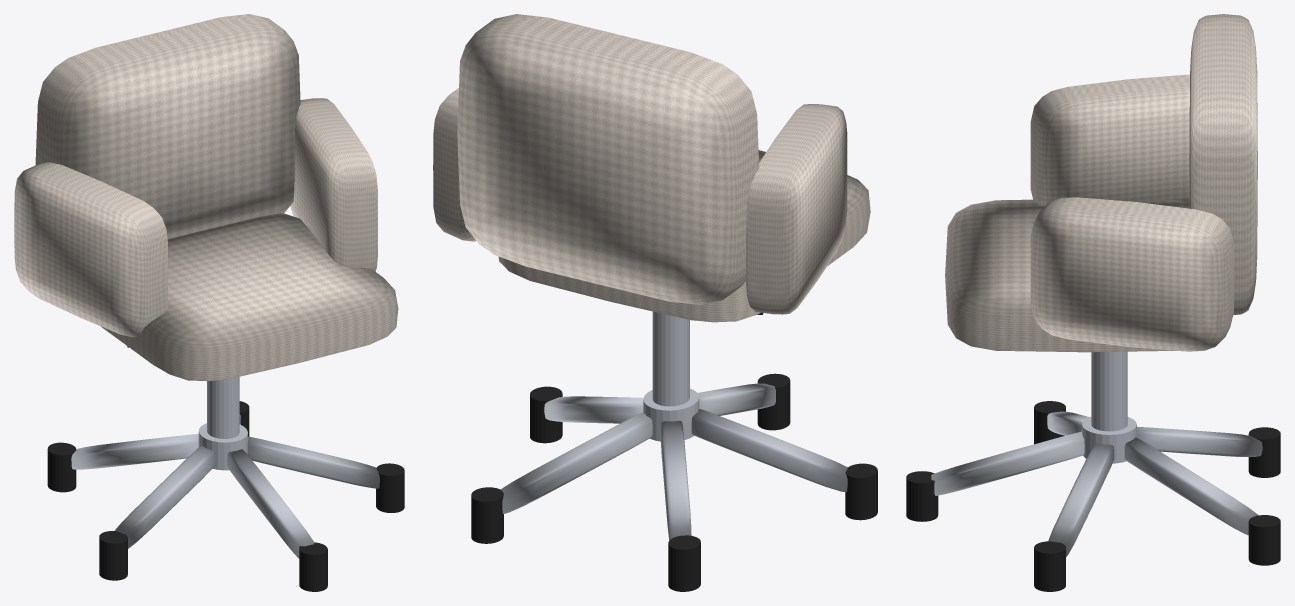
3 views of the same model, side by side, from view 1: azimuth 30°, elevation 25°; view 2: azimuth 150°, elevation 25°; view 3: azimuth 270°, elevation 25° (orthographic). The views are drawn at different scales.
Parts seen in each view (by area): view 1: 2 backrest, 1 seat, 3 left_armrest, 4 right_armrest, 9 base_spoke_2, 12 base_spoke_5, 11 base_spoke_4, 8 base_spoke_1, 6 gas_lift, 17 wheel_5, 13 wheel_1, 16 wheel_4 (+2 smaller); view 2: 2 backrest, 3 left_armrest, 1 seat, 12 base_spoke_5, 10 base_spoke_3, 4 right_armrest, 6 gas_lift, 11 base_spoke_4, 9 base_spoke_2, 8 base_spoke_1, 16 wheel_4, 15 wheel_3 (+4 smaller); view 3: 4 right_armrest, 3 left_armrest, 2 backrest, 1 seat, 8 base_spoke_1, 10 base_spoke_3, 9 base_spoke_2, 6 gas_lift, 11 base_spoke_4, 15 wheel_3, 14 wheel_2, 13 wheel_1 (+4 smaller).
Boxes of the visible parts, box(x1,y1,x2,y2) form: 2 backrest: box(35, 14, 300, 238); 1 seat: box(100, 213, 398, 381); 3 left_armrest: box(14, 162, 168, 337); 4 right_armrest: box(290, 98, 377, 271); 9 base_spoke_2: box(247, 436, 379, 488); 12 base_spoke_5: box(115, 445, 214, 548); 11 base_spoke_4: box(71, 434, 198, 469); 8 base_spoke_1: box(227, 449, 314, 558); 6 gas_lift: box(207, 377, 239, 438); 17 wheel_5: box(99, 531, 127, 580); 13 wheel_1: box(299, 542, 327, 591); 16 wheel_4: box(47, 442, 76, 492); 2 backrest: box(457, 14, 759, 304); 3 left_armrest: box(746, 104, 847, 314); 1 seat: box(498, 150, 870, 322); 12 base_spoke_5: box(691, 409, 847, 492); 10 base_spoke_3: box(500, 412, 652, 513); 4 right_armrest: box(433, 88, 476, 241); 6 gas_lift: box(652, 311, 689, 406); 11 base_spoke_4: box(660, 420, 691, 540); 9 base_spoke_2: box(544, 396, 643, 423); 8 base_spoke_1: box(697, 383, 775, 415); 16 wheel_4: box(668, 535, 700, 591); 15 wheel_3: box(471, 487, 503, 543); 4 right_armrest: box(1030, 197, 1233, 351); 3 left_armrest: box(1030, 74, 1189, 206); 2 backrest: box(1189, 14, 1257, 315); 1 seat: box(945, 199, 1189, 352); 8 base_spoke_1: box(931, 431, 1084, 495); 10 base_spoke_3: box(1124, 437, 1258, 535); 9 base_spoke_2: box(1048, 443, 1114, 556); 6 gas_lift: box(1091, 351, 1127, 431); 11 base_spoke_4: box(1137, 426, 1262, 456); 15 wheel_3: box(1248, 515, 1280, 565); 14 wheel_2: box(1034, 541, 1065, 591); 13 wheel_1: box(906, 471, 938, 521).
Size of the model in its own units: 0.74 by 1 by 0.74.
3 materials, 1 textured.
